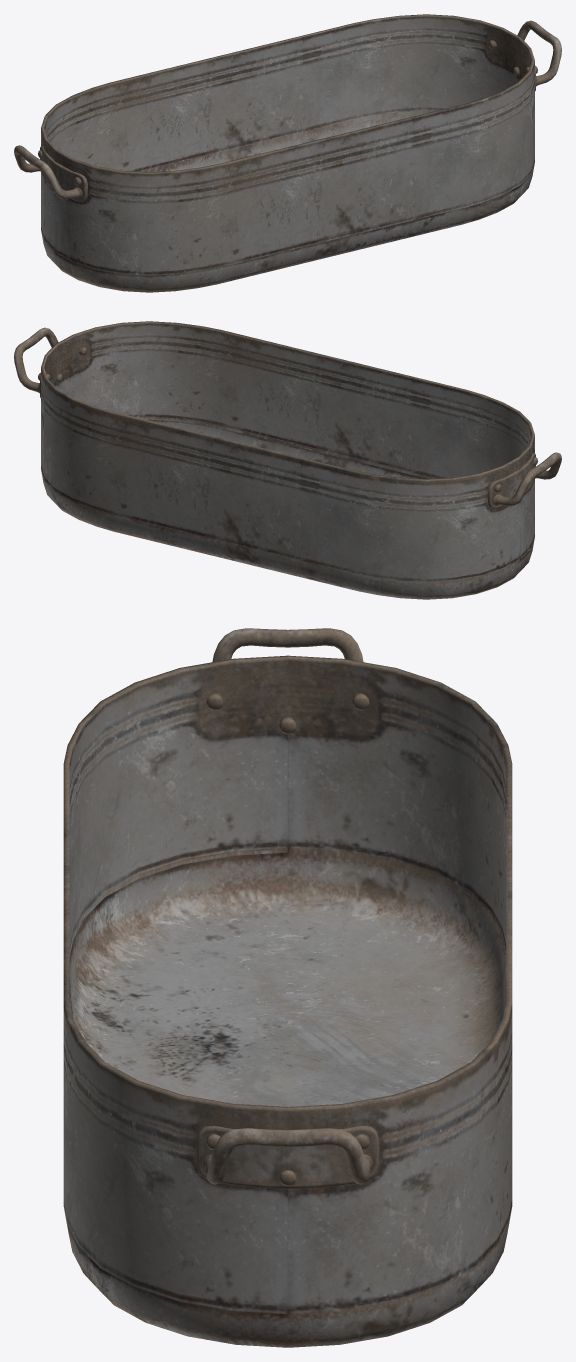
The model's file is SM_Kitchenware01_7_LOD0.glb.
The picture shows the model from 3 angles, top to bottom: view 1: azimuth 30°, elevation 25°; view 2: azimuth 150°, elevation 25°; view 3: azimuth 270°, elevation 25°; orthographic projection. The views are drawn at different scales.
Parts seen in each view (by area): view 1: SM_Kitchenware01_7_LOD0; view 2: SM_Kitchenware01_7_LOD0; view 3: SM_Kitchenware01_7_LOD0.
Boxes of the visible parts, x1,y1,x2,y2 form: SM_Kitchenware01_7_LOD0: (14,14,561,292); SM_Kitchenware01_7_LOD0: (14,321,561,599); SM_Kitchenware01_7_LOD0: (63,628,512,1347).
Bounding box in the file's own units: 0.9322 × 0.2204 × 0.3483.
Materials: 1 (1 with a texture image).
